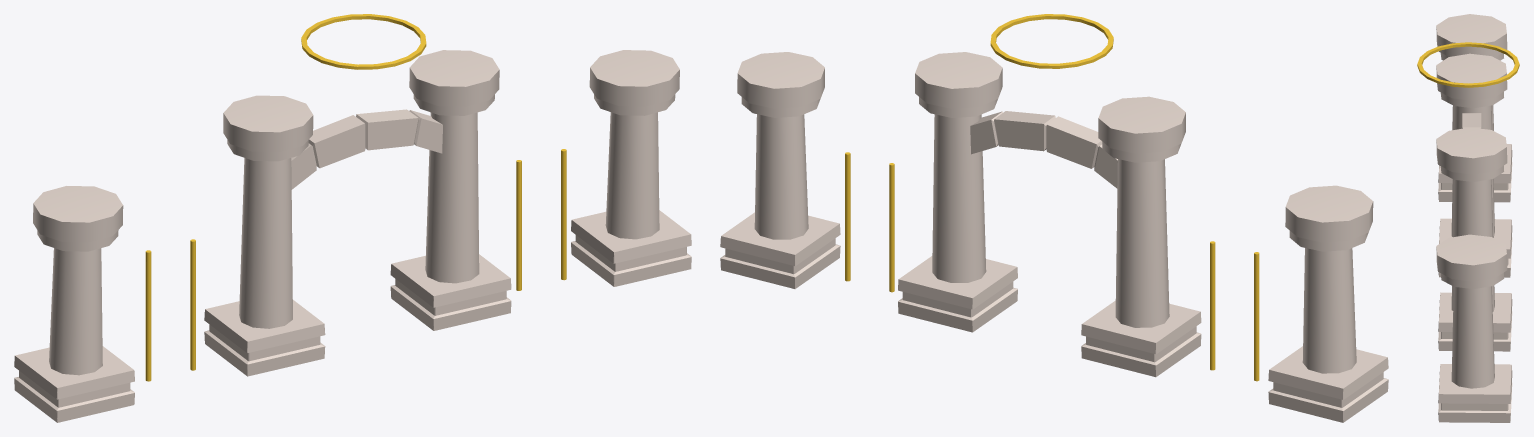
File: Isl_10_Fence.fbx
3 renders of one model, left to right at view 1: azimuth 30°, elevation 25°; view 2: azimuth 150°, elevation 25°; view 3: azimuth 270°, elevation 25°, orthographic. The views are drawn at different scales.
Visible parts, largest first — view 1: Isl_10_Fence; view 2: Isl_10_Fence; view 3: Isl_10_Fence.
Boxes of the visible parts, x1,y1,x2,y2 form: Isl_10_Fence: [14, 14, 691, 422]; Isl_10_Fence: [720, 14, 1388, 422]; Isl_10_Fence: [1417, 14, 1519, 422].
Bounding box in the file's own units: 1307 × 224 × 571.
Materials: 1 (1 with a texture image).
